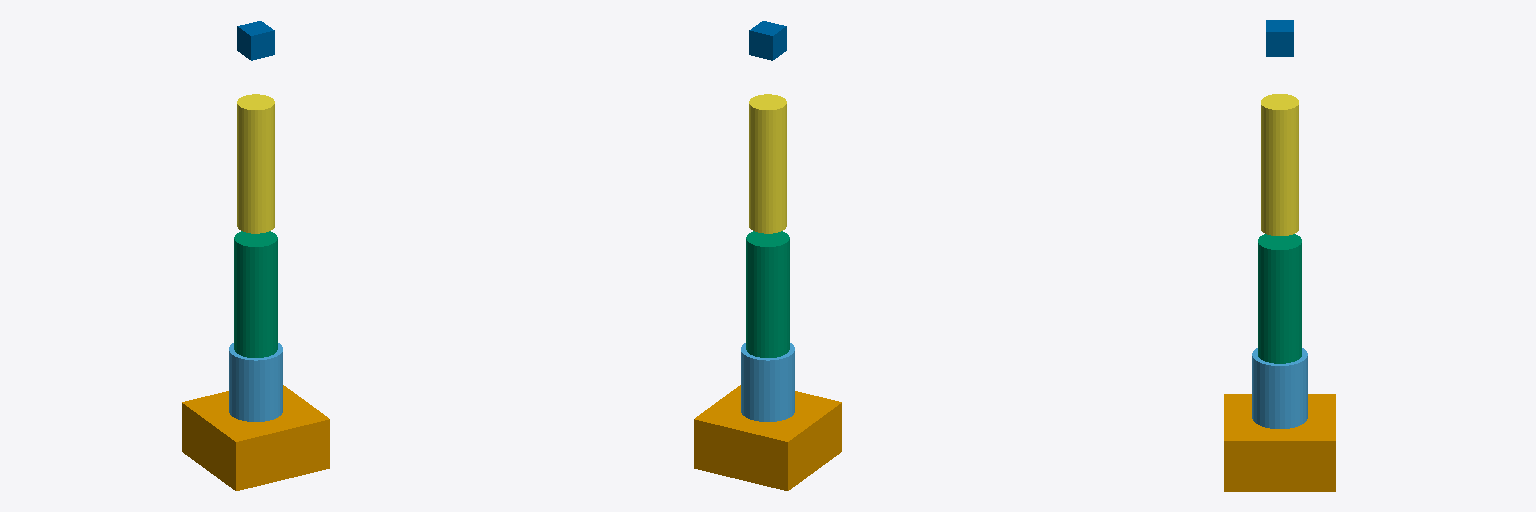
The robot description file, URDF, robot "simple_arm":
<?xml version="1.0"?>
<robot name="simple_arm">
  <!-- Base link -->
  <link name="base_link">
    <inertial>
      <mass value="1.0"/>
      <inertia ixx="0.01" ixy="0.0" ixz="0.0" iyy="0.01" iyz="0.0" izz="0.01"/>
    </inertial>
    <collision>
      <geometry>
        <box size="0.2 0.2 0.1"/>
      </geometry>
    </collision>
    <visual>
      <geometry>
        <box size="0.2 0.2 0.1"/>
      </geometry>
    </visual>
  </link>

  <!-- Shoulder link -->
  <link name="shoulder_link">
    <inertial>
      <mass value="0.5"/>
      <inertia ixx="0.002" ixy="0.0" ixz="0.0" iyy="0.002" iyz="0.0" izz="0.001"/>
    </inertial>
    <collision>
      <geometry>
        <cylinder radius="0.05" length="0.15"/>
      </geometry>
    </collision>
    <visual>
      <geometry>
        <cylinder radius="0.05" length="0.15"/>
      </geometry>
    </visual>
  </link>

  <!-- Shoulder joint (first DOF) -->
  <joint name="shoulder_joint" type="revolute">
    <parent link="base_link"/>
    <child link="shoulder_link"/>
    <origin xyz="0.0 0.0 0.1" rpy="0.0 0.0 0.0"/>
    <axis xyz="0.0 0.0 1.0"/>
    <limit lower="-3.14159" upper="3.14159" effort="10.0" velocity="1.0"/>
    <dynamics damping="0.1" friction="0.0"/>
  </joint>

  <!-- Upper arm link -->
  <link name="upper_arm_link">
    <inertial>
      <mass value="0.8"/>
      <inertia ixx="0.005" ixy="0.0" ixz="0.0" iyy="0.005" iyz="0.0" izz="0.001"/>
    </inertial>
    <collision>
      <geometry>
        <cylinder radius="0.04" length="0.3"/>
      </geometry>
    </collision>
    <visual>
      <geometry>
        <cylinder radius="0.04" length="0.3"/>
      </geometry>
    </visual>
  </link>

  <!-- Elbow joint (second DOF) -->
  <joint name="elbow_joint" type="revolute">
    <parent link="shoulder_link"/>
    <child link="upper_arm_link"/>
    <origin xyz="0.0 0.0 0.15" rpy="0.0 0.0 0.0"/>
    <axis xyz="0.0 1.0 0.0"/>
    <limit lower="-1.57080" upper="1.57080" effort="8.0" velocity="1.5"/>
    <dynamics damping="0.1" friction="0.0"/>
  </joint>

  <!-- Forearm link -->
  <link name="forearm_link">
    <inertial>
      <mass value="0.5"/>
      <inertia ixx="0.003" ixy="0.0" ixz="0.0" iyy="0.003" iyz="0.0" izz="0.0005"/>
    </inertial>
    <collision>
      <geometry>
        <cylinder radius="0.035" length="0.25"/>
      </geometry>
    </collision>
    <visual>
      <geometry>
        <cylinder radius="0.035" length="0.25"/>
      </geometry>
    </visual>
  </link>

  <!-- Wrist joint (third DOF) -->
  <joint name="wrist_joint" type="revolute">
    <parent link="upper_arm_link"/>
    <child link="forearm_link"/>
    <origin xyz="0.0 0.0 0.3" rpy="0.0 0.0 0.0"/>
    <axis xyz="0.0 0.0 1.0"/>
    <limit lower="-3.14159" upper="3.14159" effort="5.0" velocity="2.0"/>
    <dynamics damping="0.05" friction="0.0"/>
  </joint>

  <!-- End effector (tool) link -->
  <link name="end_effector">
    <inertial>
      <mass value="0.2"/>
      <inertia ixx="0.0001" ixy="0.0" ixz="0.0" iyy="0.0001" iyz="0.0" izz="0.0001"/>
    </inertial>
    <collision>
      <geometry>
        <box size="0.05 0.05 0.05"/>
      </geometry>
    </collision>
    <visual>
      <geometry>
        <box size="0.05 0.05 0.05"/>
      </geometry>
    </visual>
  </link>

  <!-- Tool (end effector) fixed joint -->
  <joint name="tool_joint" type="fixed">
    <parent link="forearm_link"/>
    <child link="end_effector"/>
    <origin xyz="0.0 0.0 0.25" rpy="0.0 0.0 0.0"/>
  </joint>
</robot>

--- Render facts (derived) ---
3 views of the same robot in one strip: view 1: azimuth 30°, elevation 25°; view 2: azimuth 150°, elevation 25°; view 3: azimuth 270°, elevation 25° (orthographic).
Robot: simple_arm — 5 links, 4 joints (3 revolute, 1 fixed); root link base_link; default pose: every joint at zero.
Visible links, largest first — view 1: base_link, upper_arm_link, forearm_link, shoulder_link, end_effector; view 2: base_link, upper_arm_link, forearm_link, shoulder_link, end_effector; view 3: base_link, upper_arm_link, forearm_link, shoulder_link, end_effector.
Link boxes in pixels (left/top/right/bottom): base_link: left=182, top=385, right=329, bottom=490; upper_arm_link: left=234, top=231, right=277, bottom=357; forearm_link: left=237, top=94, right=274, bottom=233; shoulder_link: left=229, top=343, right=282, bottom=421; end_effector: left=237, top=21, right=274, bottom=60; base_link: left=694, top=385, right=841, bottom=490; upper_arm_link: left=746, top=231, right=789, bottom=357; forearm_link: left=749, top=94, right=786, bottom=233; shoulder_link: left=741, top=343, right=794, bottom=421; end_effector: left=749, top=21, right=786, bottom=60; base_link: left=1224, top=394, right=1335, bottom=491; upper_arm_link: left=1258, top=234, right=1301, bottom=363; forearm_link: left=1261, top=94, right=1298, bottom=235; shoulder_link: left=1252, top=348, right=1307, bottom=428; end_effector: left=1266, top=20, right=1293, bottom=56.
Bounding box of the posed robot: 0.2 × 0.2 × 0.875 m (x, y, z).
Geometry: primitives only (box / cylinder / sphere), no mesh files.
